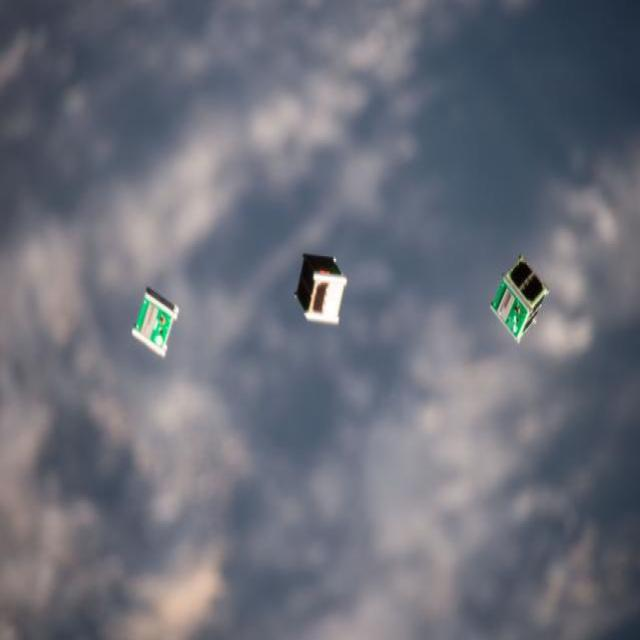medium_debris: (491, 256, 548, 341), (295, 254, 348, 324), (131, 288, 179, 356)
